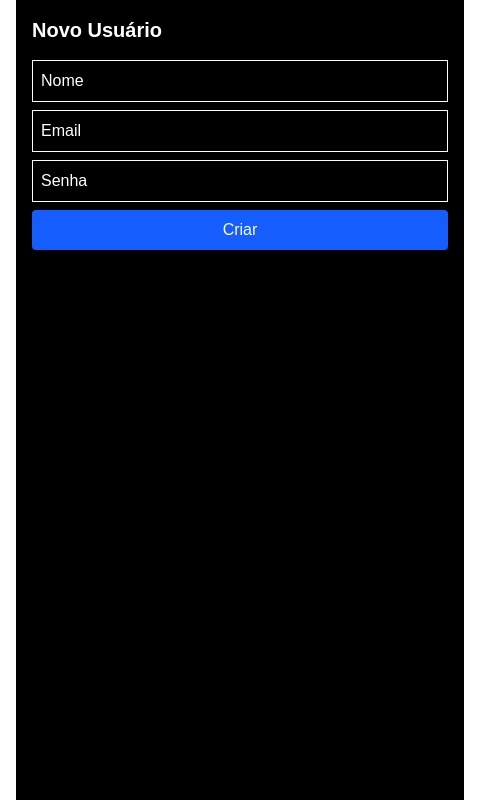
Test: NewUserPage › valida nome vazio
Type "teste@email.com" into the field with placeholder "Email" at {"x": 240, "y": 131}, box [32,110,448,152]
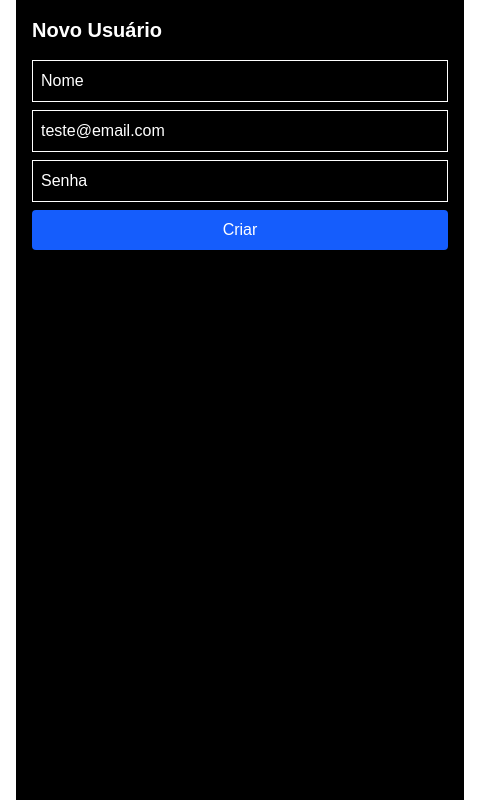
Type "123456" into the password field with placeholder "Senha" at {"x": 240, "y": 181}, box [32,160,448,202]
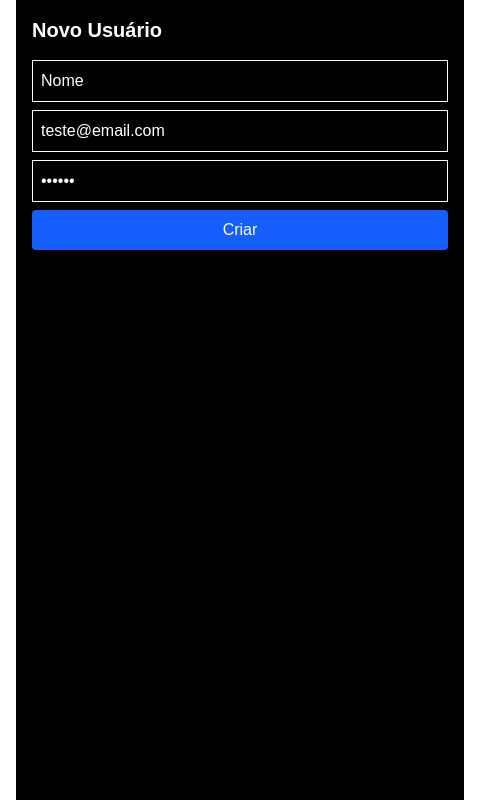
Click the button "Criar" at {"x": 240, "y": 230}, box [32,210,448,250]
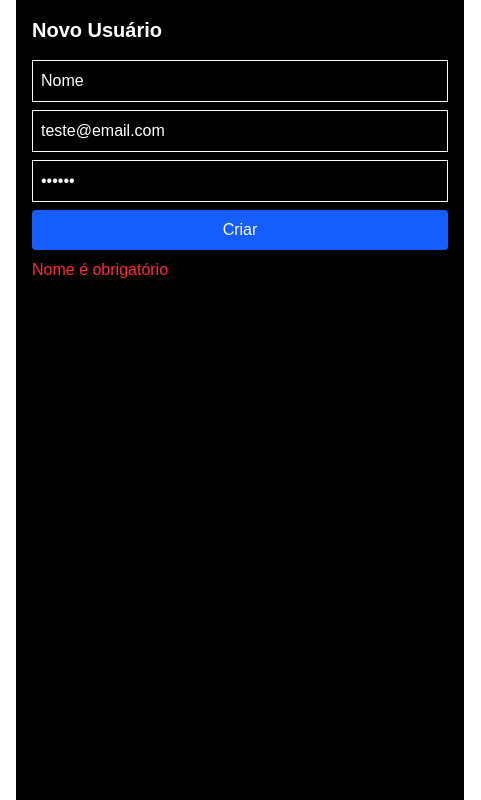
Expected: the text "Nome é obrigatório" is shown, [32,261,168,278]
